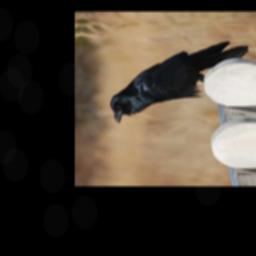Crow: (109, 38, 251, 125)
